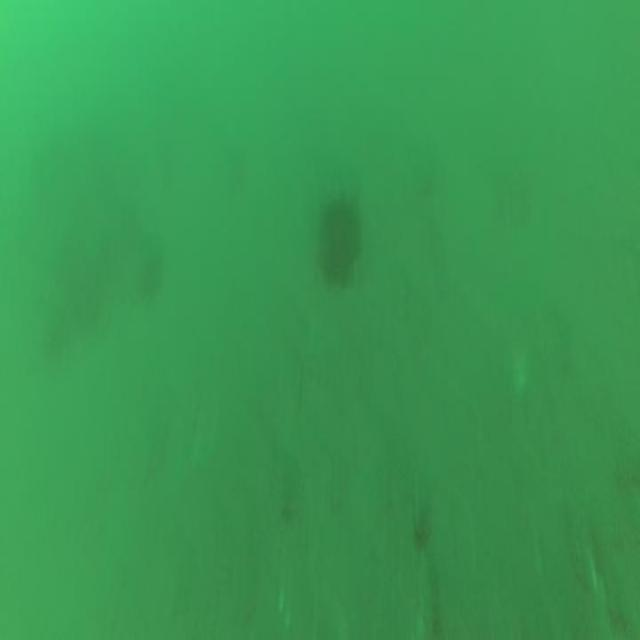echinus: (308, 175, 372, 299)
